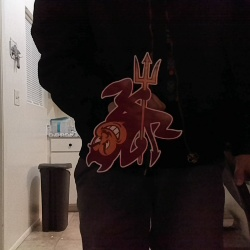sparky: (84, 50, 182, 172)
